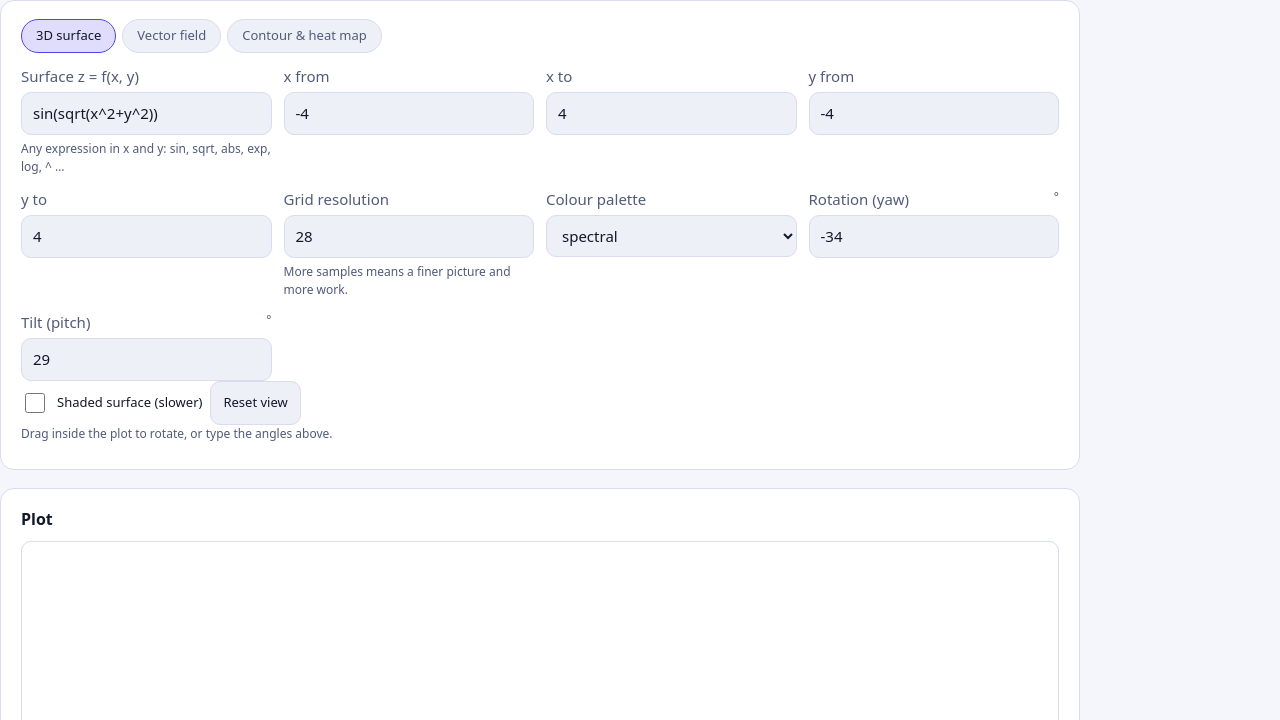
Test: 3D, vector field and contour panel › explains an expression it cannot plot instead of drawing nonsense
The width and height of the screenshot is (1280, 720).
Replace the text in the field labelled "Surface z = f(x, y)" with "sin(". click: (146, 113)
box: [21,92,272,134]
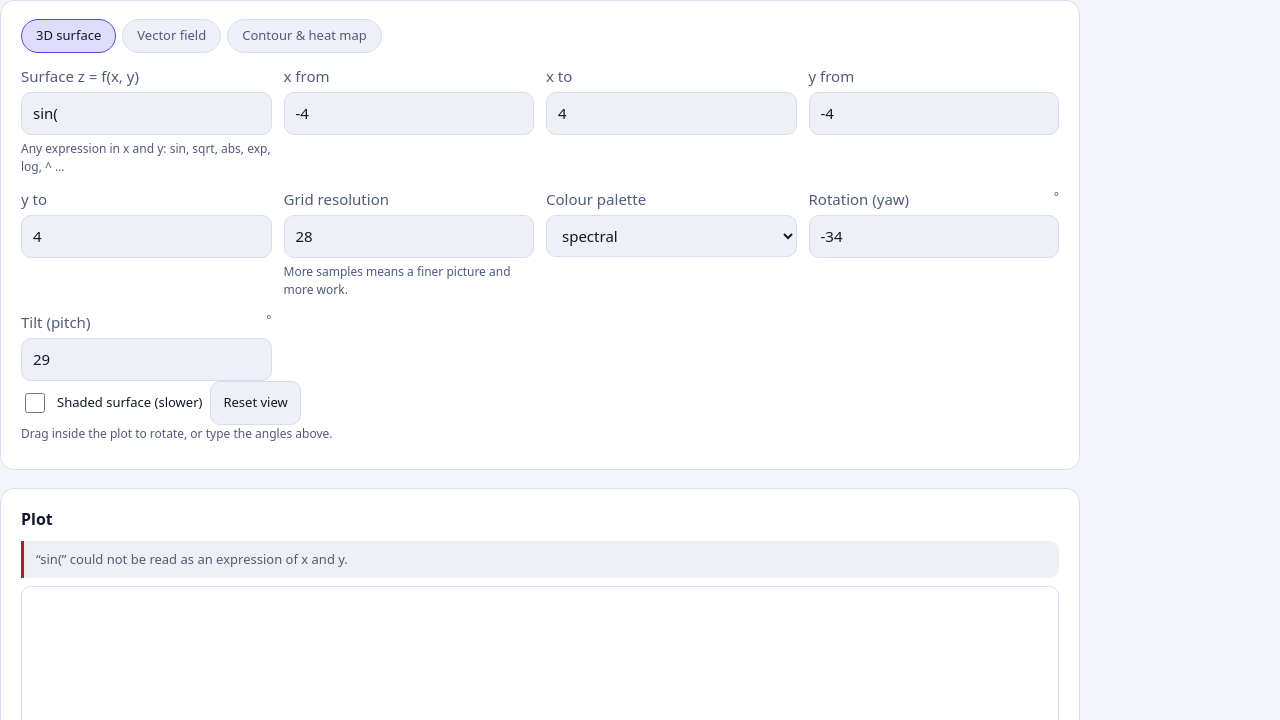
Check: the text "“sin(” could not be read as an expression of x and y." is shown, box [21,540,1059,578]
